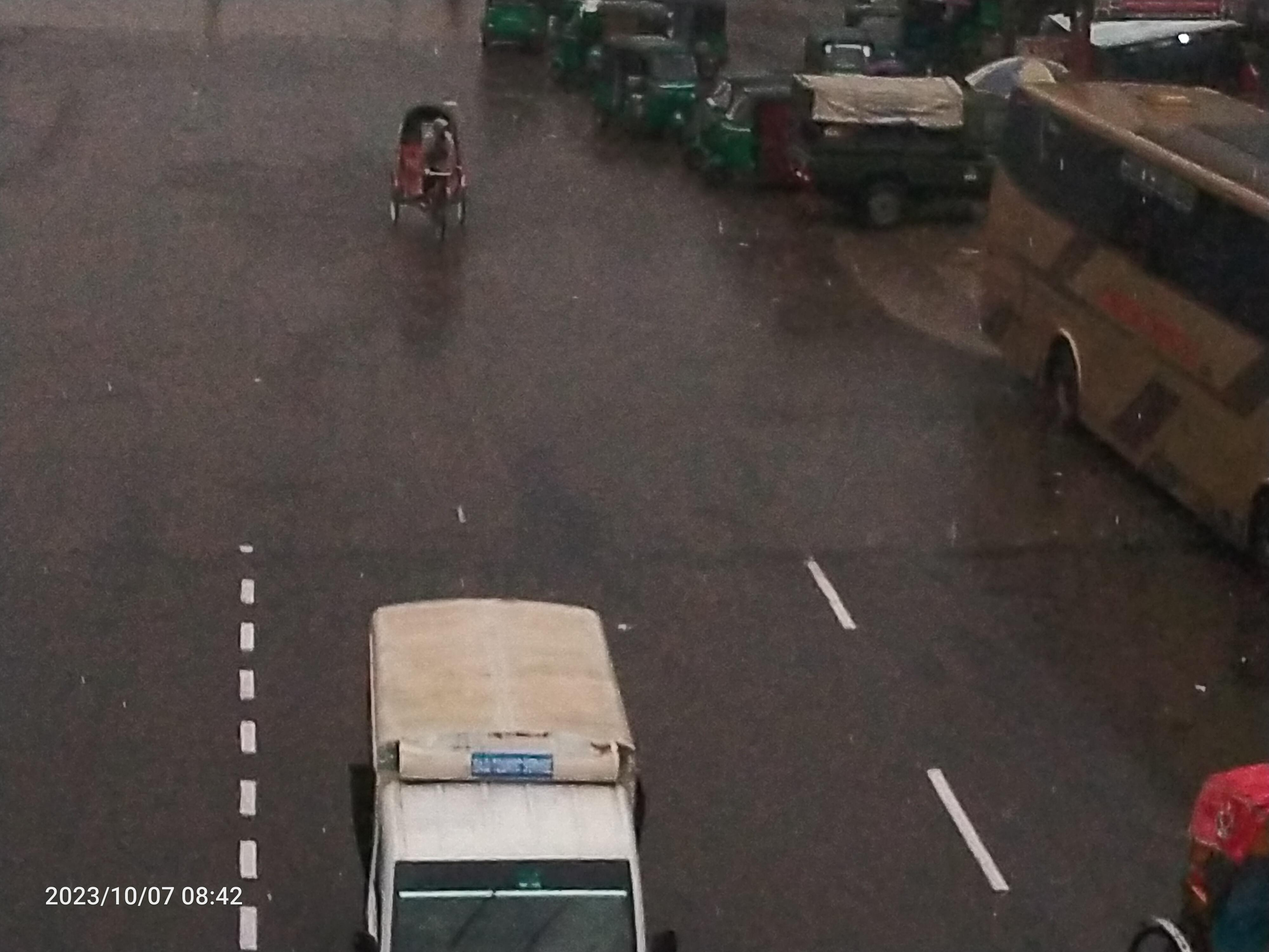Bus: (970, 42, 1269, 583)
Car: (266, 548, 692, 952), (1086, 716, 1269, 952), (328, 65, 514, 281)
Truck: (777, 56, 1014, 245)
